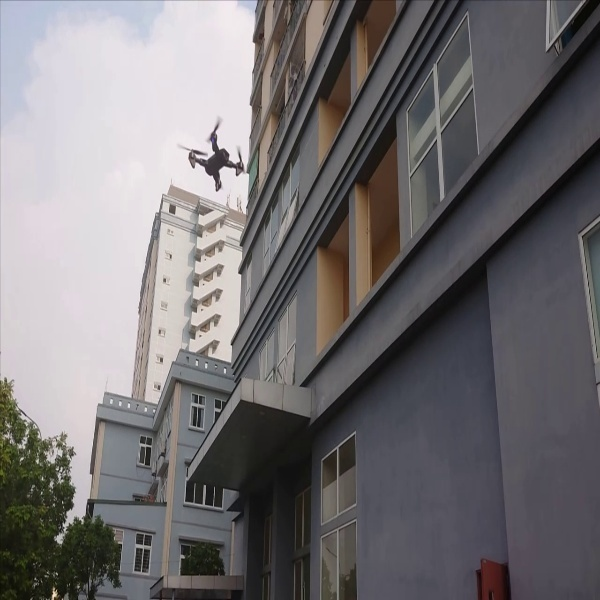drone: (175, 115, 249, 195)
